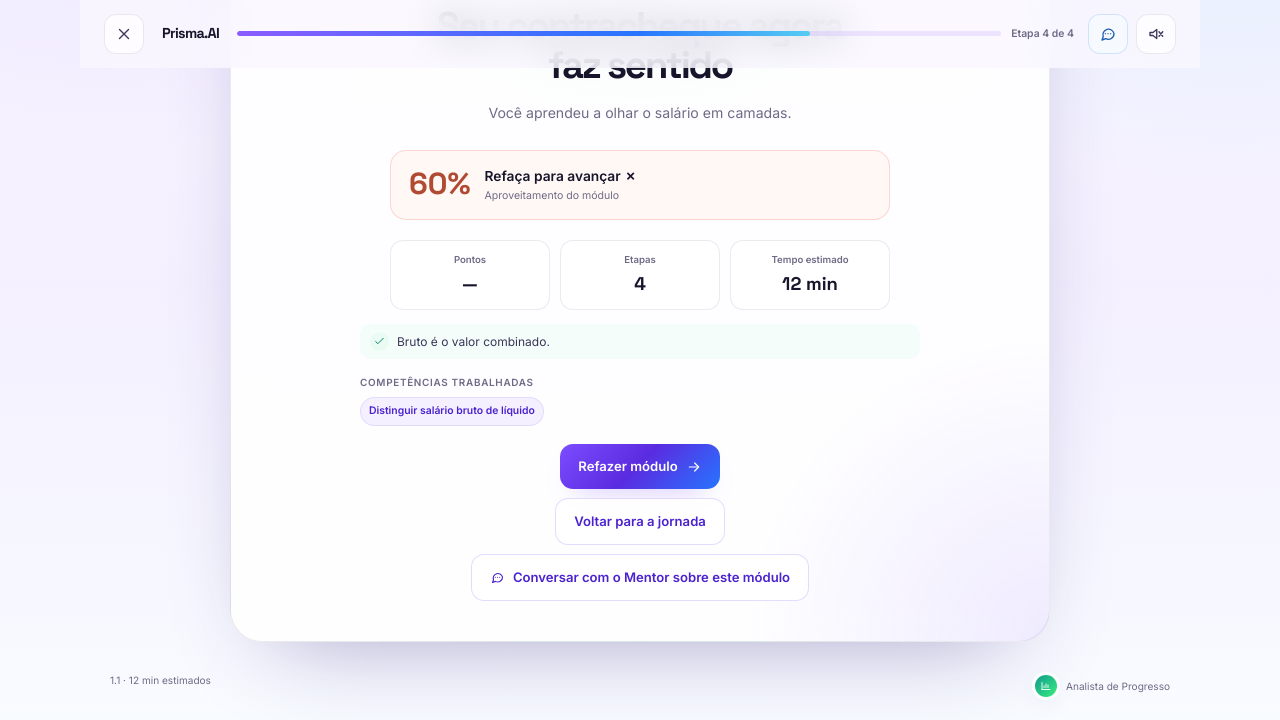
Test: LessonPlayerPage › shows the percentage and offers a mandatory retry after failing
(page scrolled)
Expected: the text "60%" is shown, [409,169,470,200]
Expected: the text "Refaça para avançar ✗" is shown, [484,165,636,187]
Step 1. Click the button "Refazer módulo" → (640, 466), box [560,444,720,489]
(page scrolled)
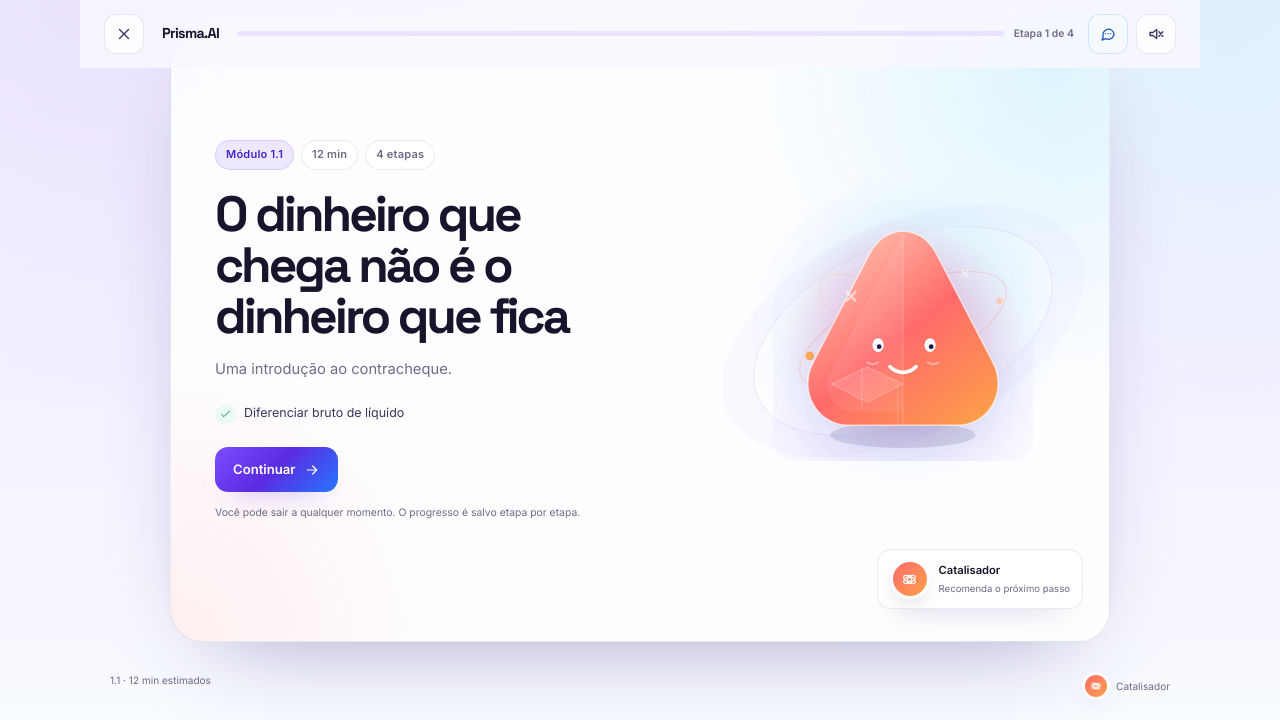
Result: the heading "O dinheiro que chega não é o dinheiro que fica" is shown at [215,182,568,347]
